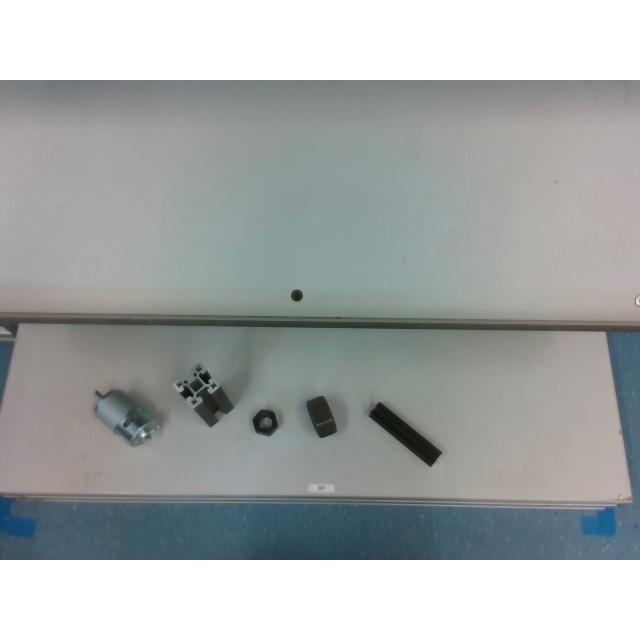F20_20_B: (368, 402, 440, 466)
M20: (252, 408, 278, 436)
M30: (306, 396, 336, 436)
Motor2: (95, 390, 159, 446)
S40_40_B: (173, 362, 233, 426)
